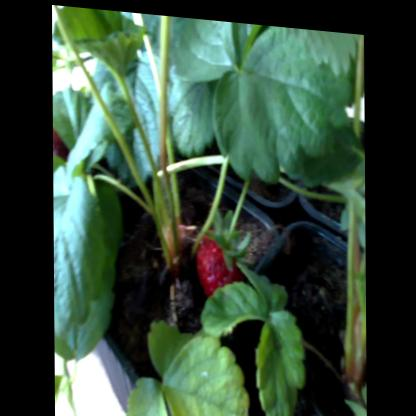ripe: (196, 222, 248, 296)
